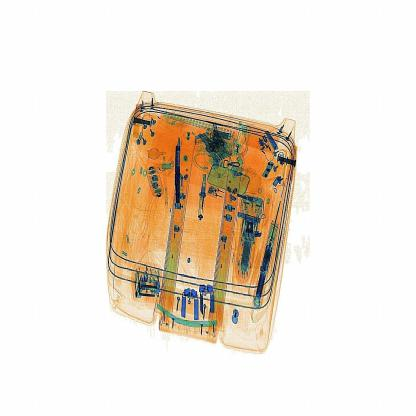pliers: (170, 129, 188, 218)
